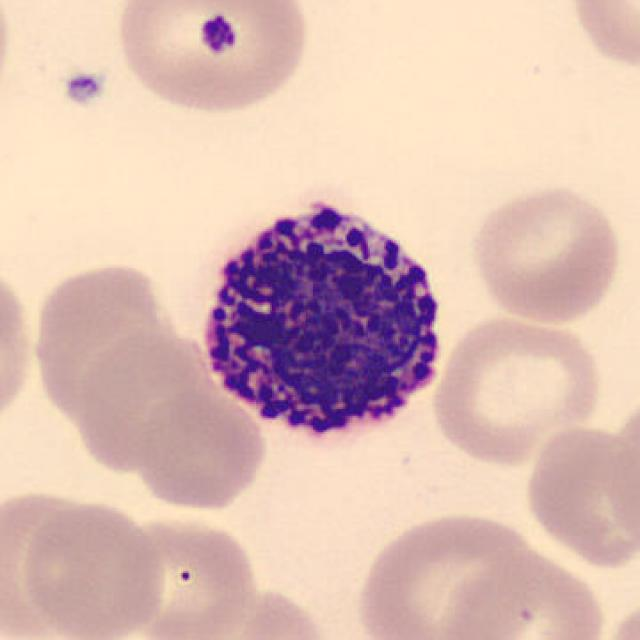Basophil: (187, 183, 462, 468)
Platelets: (178, 12, 252, 76), (58, 66, 108, 110), (196, 11, 238, 58)
RBC: (427, 310, 606, 468), (352, 506, 540, 640), (106, 4, 314, 118), (466, 180, 626, 326), (16, 497, 169, 640), (32, 261, 164, 421), (108, 509, 259, 640), (74, 325, 208, 469), (519, 420, 638, 571), (132, 386, 270, 515), (434, 548, 612, 640), (151, 582, 334, 640), (0, 257, 36, 432), (560, 0, 640, 76), (0, 0, 18, 118), (596, 594, 638, 640)
